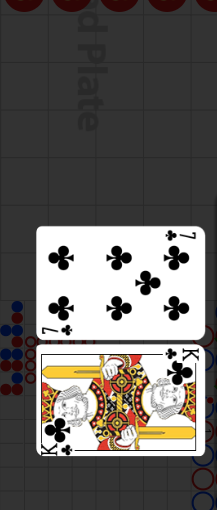7C: (163, 229, 198, 243)
KC: (160, 346, 201, 364)
